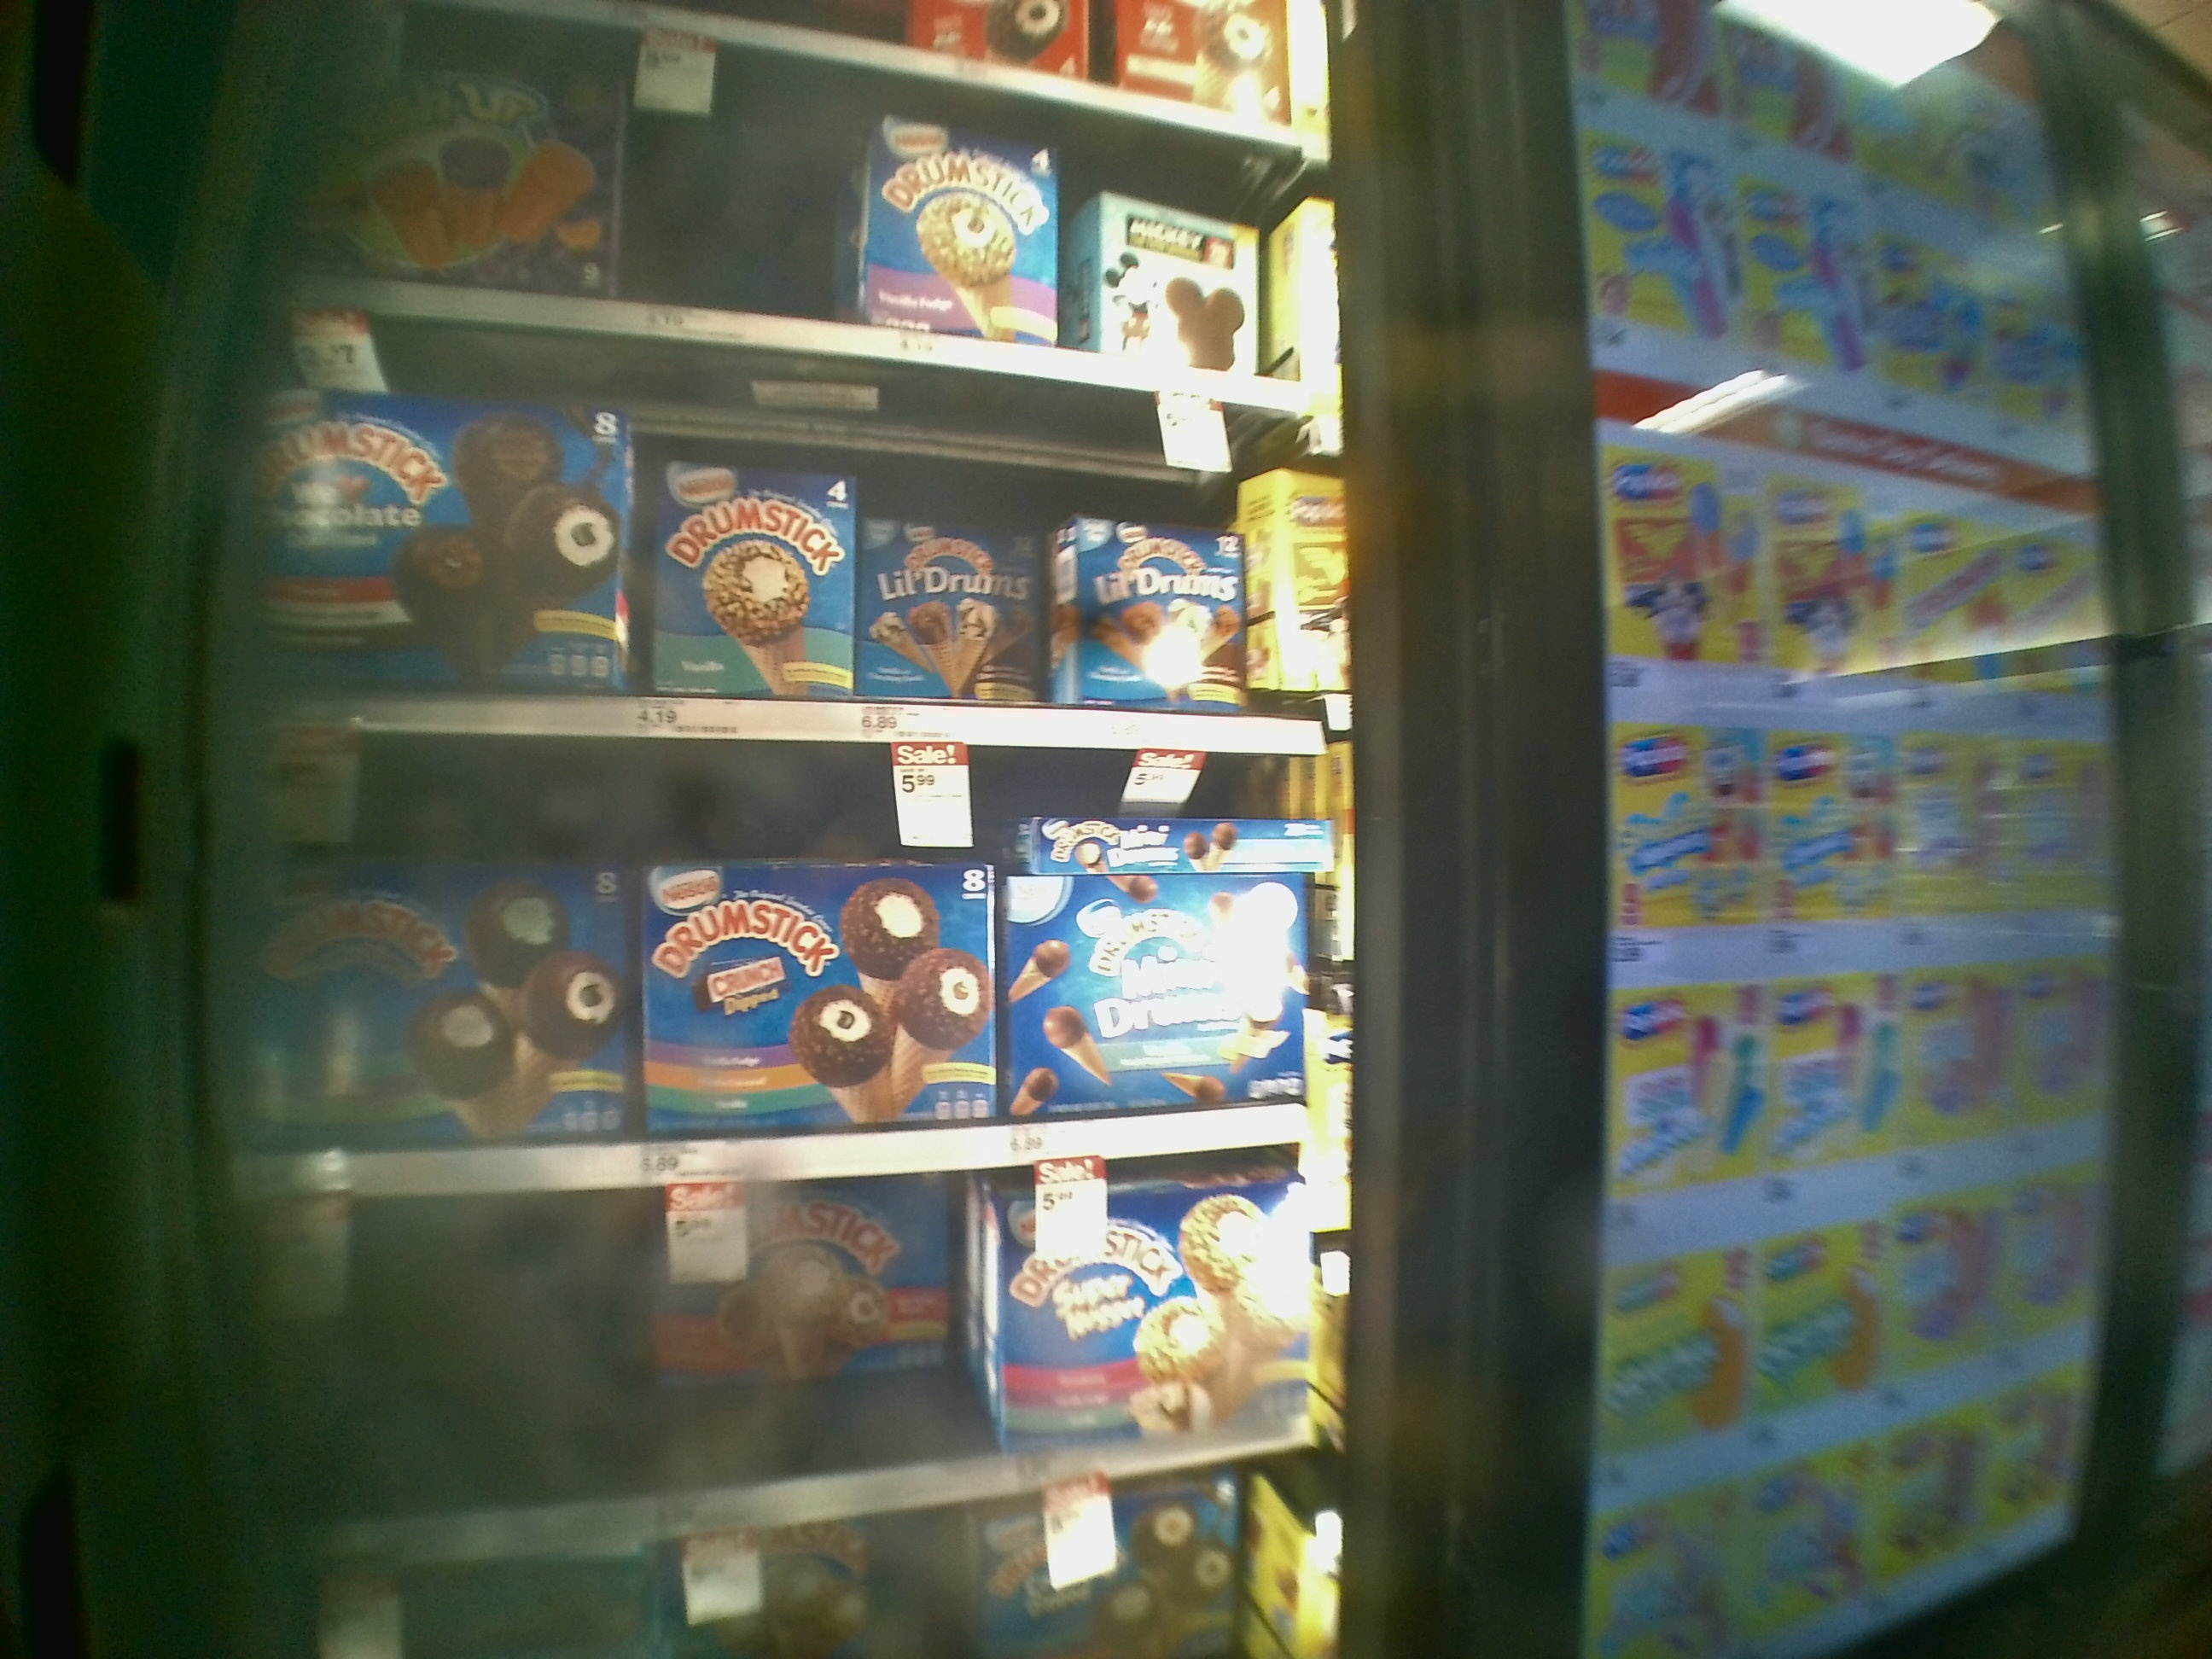shelf: (216, 737, 1372, 1190), (239, 310, 1353, 751)
